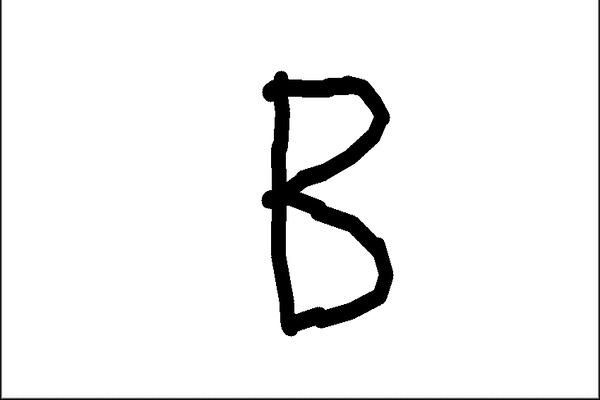B: (250, 61, 403, 341)
